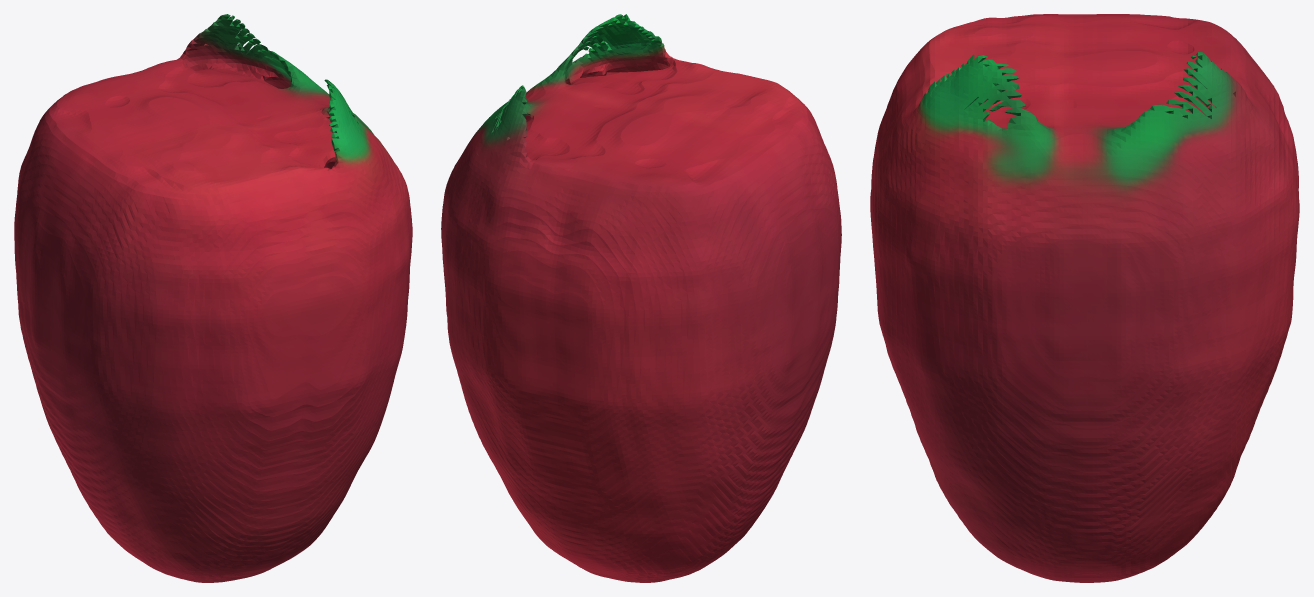
3 views of the same model, side by side, from view 1: azimuth 30°, elevation 25°; view 2: azimuth 150°, elevation 25°; view 3: azimuth 270°, elevation 25° (orthographic). The views are drawn at different scales.
Parts seen in each view (by area): view 1: tmptgk14lr3.ply; view 2: tmptgk14lr3.ply; view 3: tmptgk14lr3.ply.
Part boxes in pixels (left/top/right/bottom): tmptgk14lr3.ply: left=14, top=14, right=412, bottom=582; tmptgk14lr3.ply: left=441, top=14, right=841, bottom=582; tmptgk14lr3.ply: left=870, top=14, right=1299, bottom=582.
Size of the model in its own units: 1.35 by 1.97 by 1.39.
